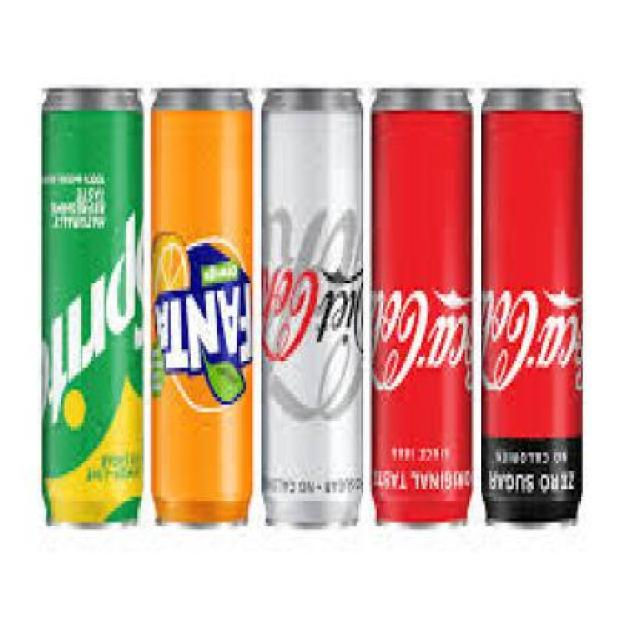metal: (42, 92, 146, 542), (482, 92, 588, 530), (372, 88, 474, 534), (154, 92, 255, 534), (265, 92, 366, 530)
